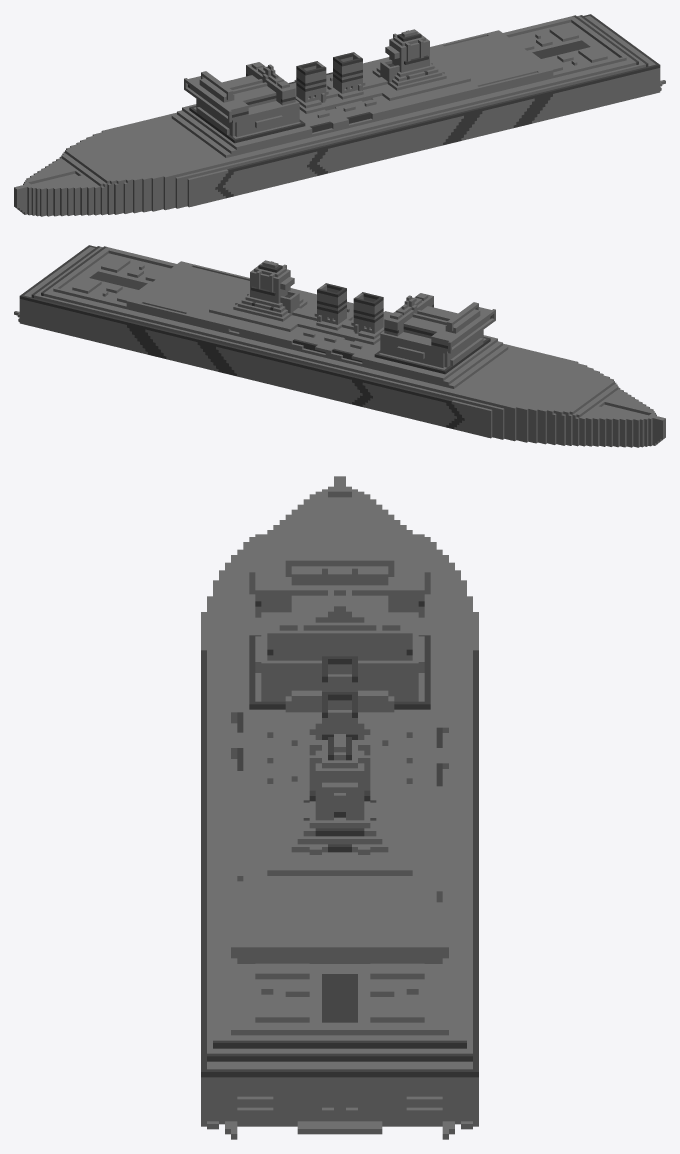
File: boat.vox.obj
3 views of the same model, one above another, from view 1: azimuth 30°, elevation 25°; view 2: azimuth 150°, elevation 25°; view 3: azimuth 270°, elevation 25° (orthographic). The views are drawn at different scales.
Bounding box in the file's own units: 23.8 × 3.2 × 4.6.
1 material, 1 textured.
